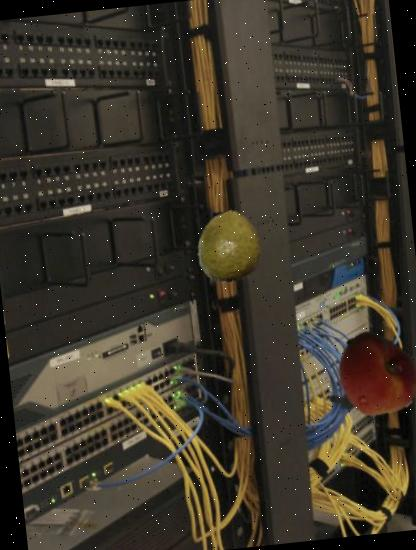Guava: (190, 206, 268, 285)
Nectarine: (327, 326, 416, 424)
